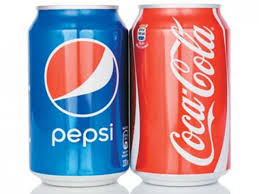coke-can: (134, 3, 236, 188)
pepsi-can: (26, 3, 130, 188)
